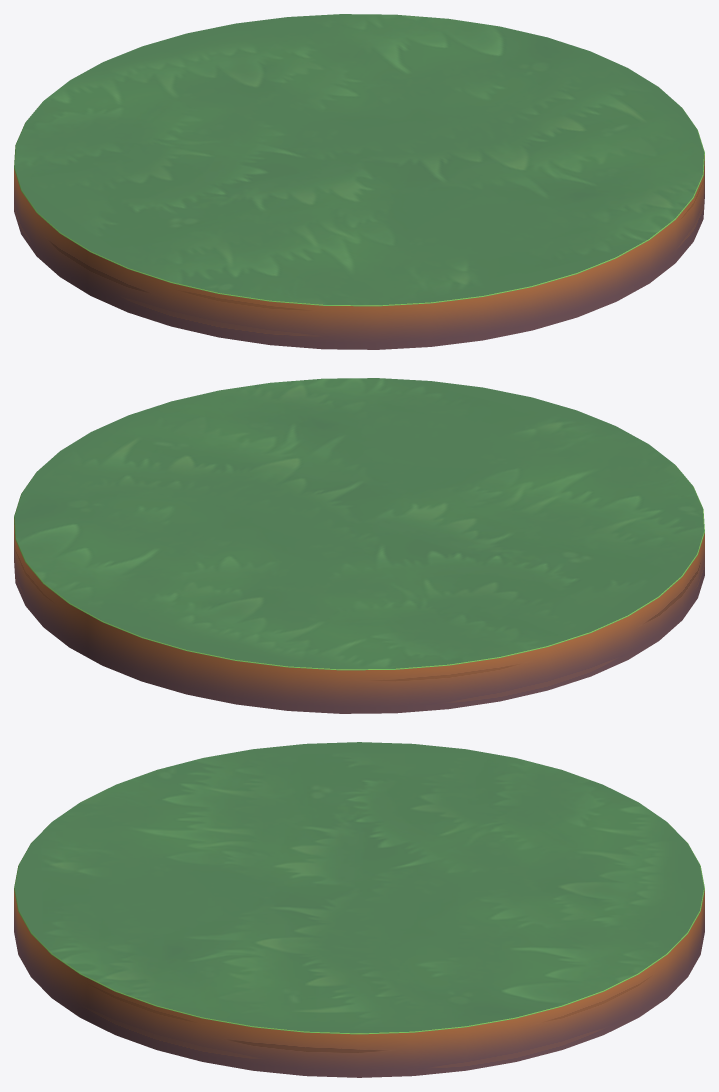
Rendered from Arena.fbx.
3 views of the same model, one above another, from view 1: azimuth 30°, elevation 25°; view 2: azimuth 150°, elevation 25°; view 3: azimuth 270°, elevation 25° (orthographic).
Visible parts, largest first — view 1: Arena, Arena_ground; view 2: Arena, Arena_ground; view 3: Arena, Arena_ground.
Part boxes in pixels (left/top/right/bottom): Arena: left=14, top=14, right=704, bottom=305; Arena_ground: left=14, top=102, right=704, bottom=349; Arena: left=14, top=378, right=704, bottom=669; Arena_ground: left=14, top=466, right=704, bottom=713; Arena: left=14, top=742, right=704, bottom=1033; Arena_ground: left=14, top=824, right=704, bottom=1077.
Bounding box in the file's own units: 10688 × 753 × 10688.
